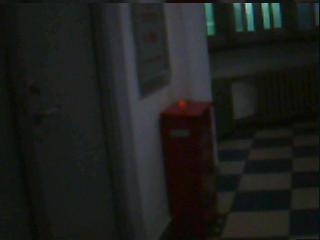oball: (178, 99, 186, 107)
